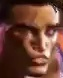kevin: (8, 1, 61, 73)
